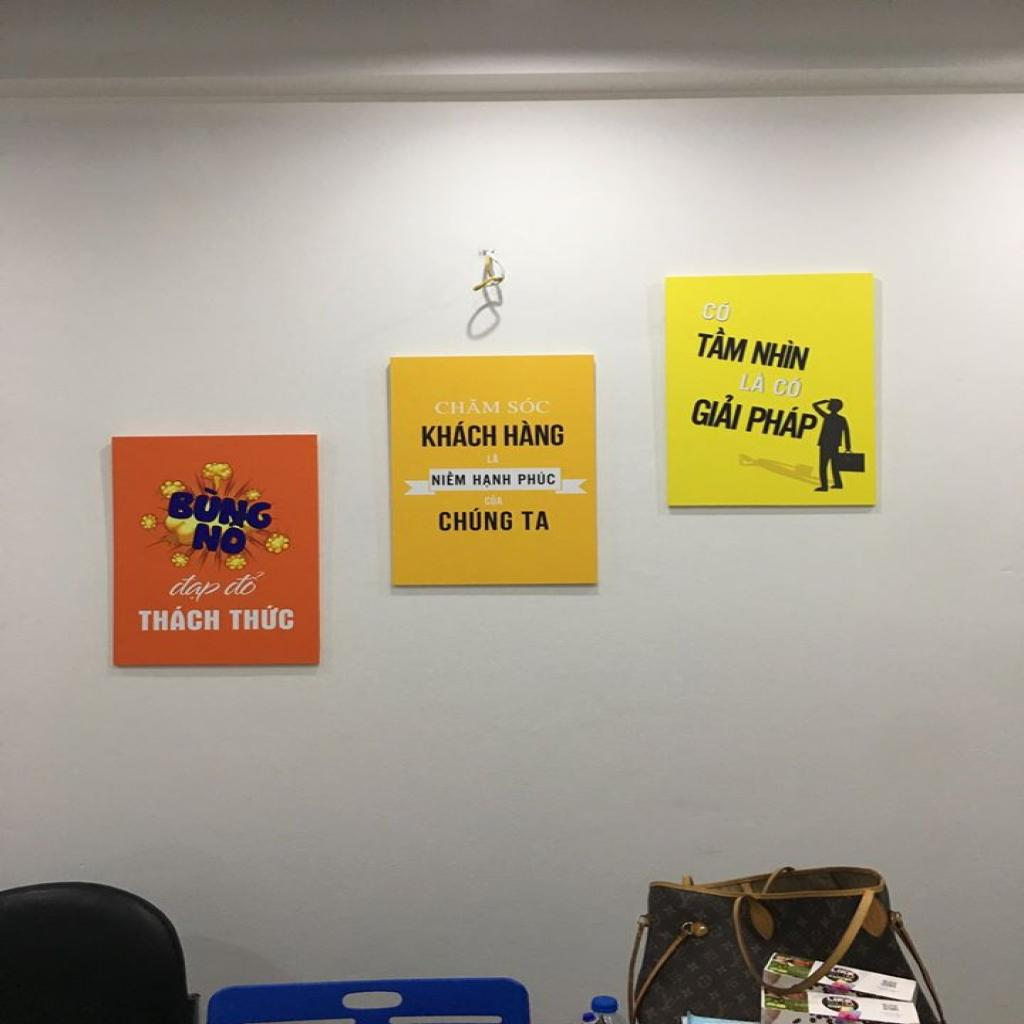text: (162, 479, 283, 531), (747, 397, 825, 448), (684, 386, 748, 433), (182, 519, 252, 560), (131, 602, 225, 632), (742, 334, 816, 371), (691, 321, 754, 363), (416, 417, 500, 448), (432, 505, 516, 532), (502, 418, 569, 450), (158, 572, 225, 602), (227, 605, 296, 632), (428, 395, 504, 418), (223, 568, 276, 598), (691, 294, 737, 324), (515, 502, 555, 536), (734, 368, 774, 398), (772, 371, 814, 398), (518, 469, 564, 491), (504, 395, 554, 415), (422, 470, 472, 488), (472, 470, 515, 486), (482, 490, 511, 508), (480, 449, 504, 465)
